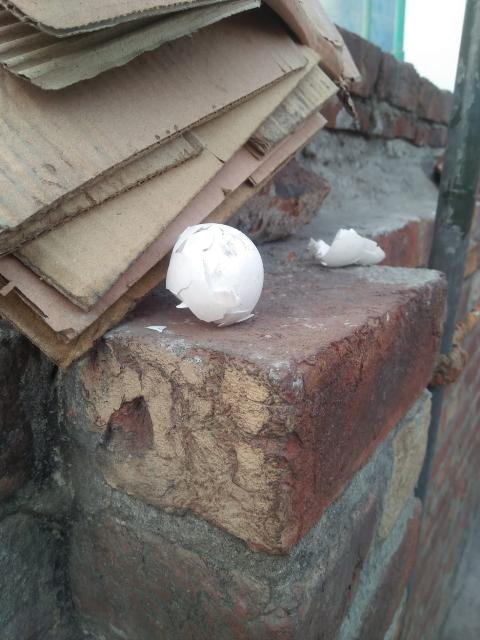Roto: (167, 223, 264, 327), (307, 227, 386, 268)
